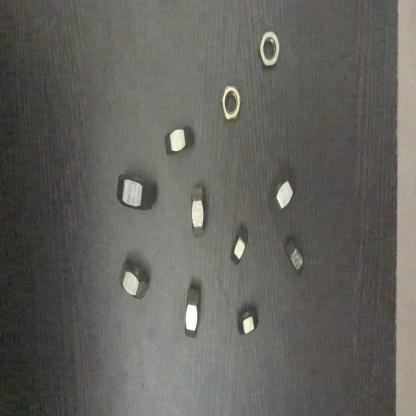NUTS: (116, 168, 157, 229), (117, 256, 157, 306), (264, 172, 299, 223), (160, 115, 196, 162), (251, 26, 285, 72), (183, 183, 211, 238), (182, 284, 208, 342), (219, 76, 246, 129), (282, 234, 308, 277), (229, 222, 254, 265), (235, 302, 261, 341)
